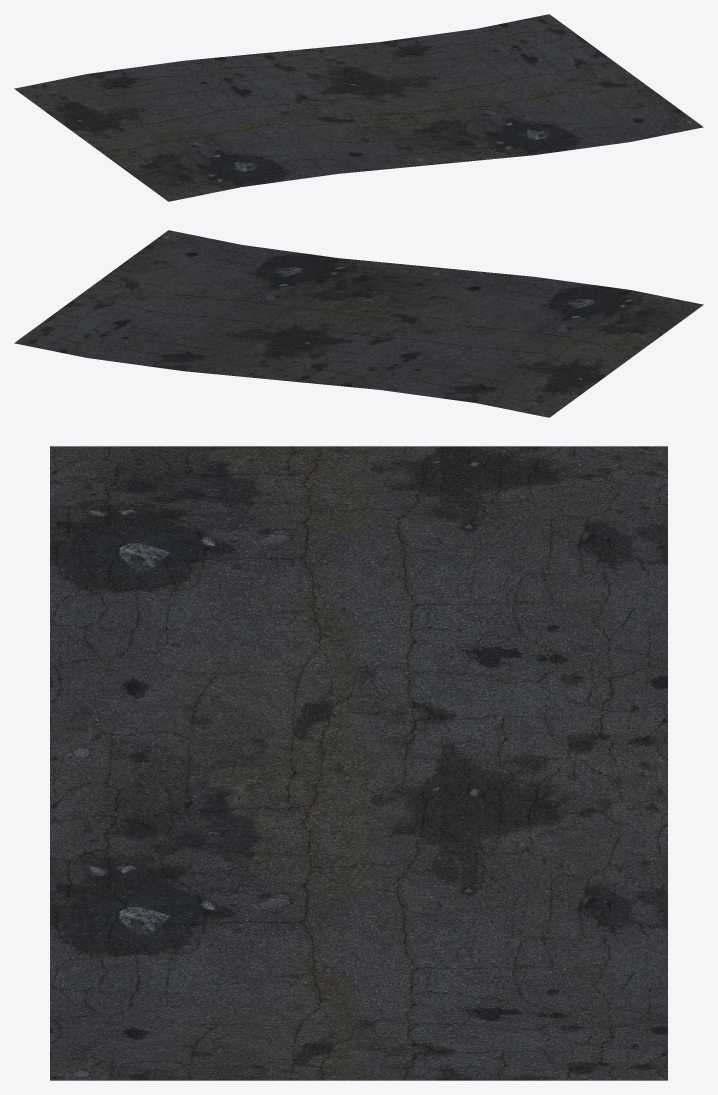
The model's file is Road_set_v1_road_up_2m_HD_f (1).glb.
The picture shows the model from 3 angles, top to bottom: view 1: azimuth 30°, elevation 25°; view 2: azimuth 150°, elevation 25°; view 3: azimuth 270°, elevation 25°; orthographic projection. The views are drawn at different scales.
Visible parts, largest first — view 1: Road_set_v1_road_up_2m_HD_f (1); view 2: Road_set_v1_road_up_2m_HD_f (1); view 3: Road_set_v1_road_up_2m_HD_f (1).
Part boxes in pixels (left/top/right/bottom): Road_set_v1_road_up_2m_HD_f (1): left=14, top=14, right=703, bottom=201; Road_set_v1_road_up_2m_HD_f (1): left=14, top=230, right=703, bottom=417; Road_set_v1_road_up_2m_HD_f (1): left=50, top=446, right=667, bottom=1080.
Size of the model in its own units: 20 by 2 by 10.
Materials: 1 (1 with a texture image).
